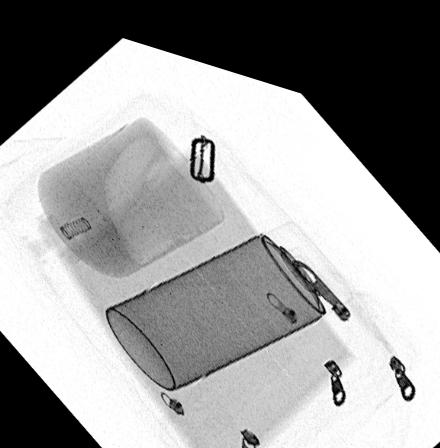Sprayer: (104, 201, 351, 379)
